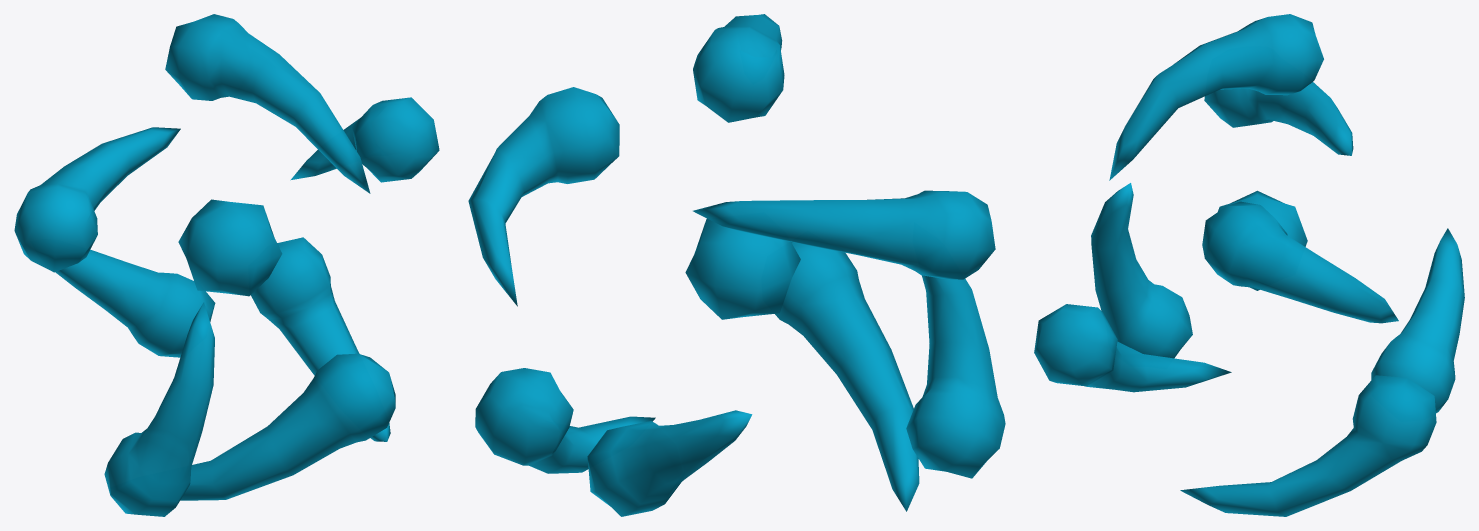
Rendered from energy-star-3.obj.
3 views of the same model, side by side, from view 1: azimuth 30°, elevation 25°; view 2: azimuth 150°, elevation 25°; view 3: azimuth 270°, elevation 25° (orthographic). The views are drawn at different scales.
Parts seen in each view (by area): view 1: EnergyStar; view 2: EnergyStar; view 3: EnergyStar.
Part boxes in pixels (left/top/right/bottom): EnergyStar: left=14, top=14, right=439, bottom=516; EnergyStar: left=468, top=14, right=1005, bottom=516; EnergyStar: left=1034, top=14, right=1464, bottom=516.
Size of the model in its own units: 2.07 by 2.02 by 1.85.
